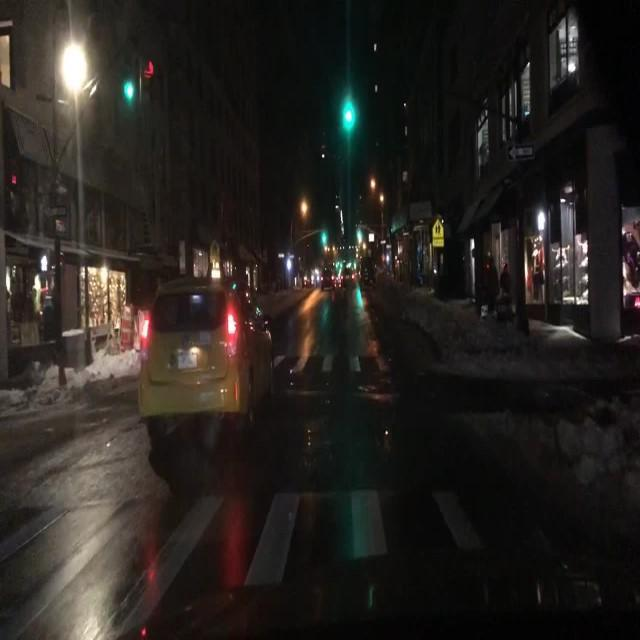normal: (141, 282, 283, 452)
